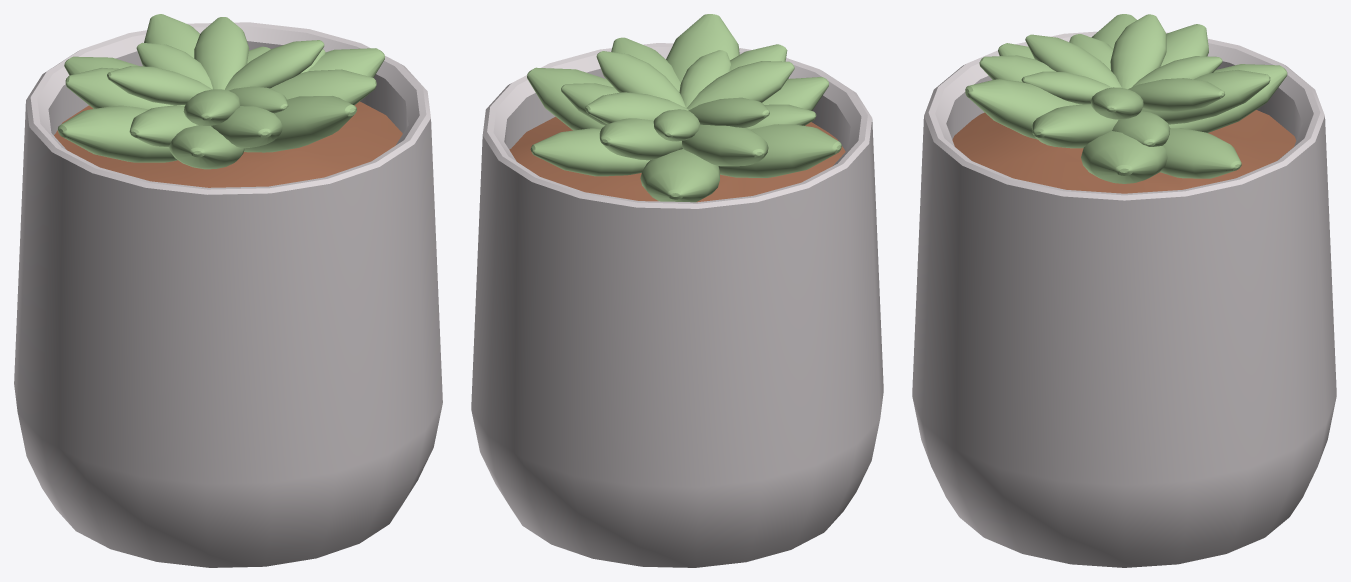
Rendered from pot_plant.glb.
3 renders of one model, left to right at view 1: azimuth 30°, elevation 25°; view 2: azimuth 150°, elevation 25°; view 3: azimuth 270°, elevation 25°, orthographic. The views are drawn at different scales.
Visible parts, largest first — view 1: pot, Succulent_Plant, dirt; view 2: pot, Succulent_Plant, dirt; view 3: pot, Succulent_Plant, dirt.
Part boxes in pixels (left/top/right/bottom): pot: left=14, top=22, right=442, bottom=567; Succulent_Plant: left=57, top=14, right=384, bottom=169; dirt: left=54, top=101, right=402, bottom=187; pot: left=471, top=43, right=883, bottom=567; Succulent_Plant: left=527, top=14, right=841, bottom=202; dirt: left=509, top=116, right=845, bottom=202; pot: left=912, top=31, right=1336, bottom=567; Succulent_Plant: left=965, top=14, right=1287, bottom=183; dirt: left=952, top=110, right=1296, bottom=193.
Size of the model in its own units: 0.0408 by 0.0457 by 0.0408.
